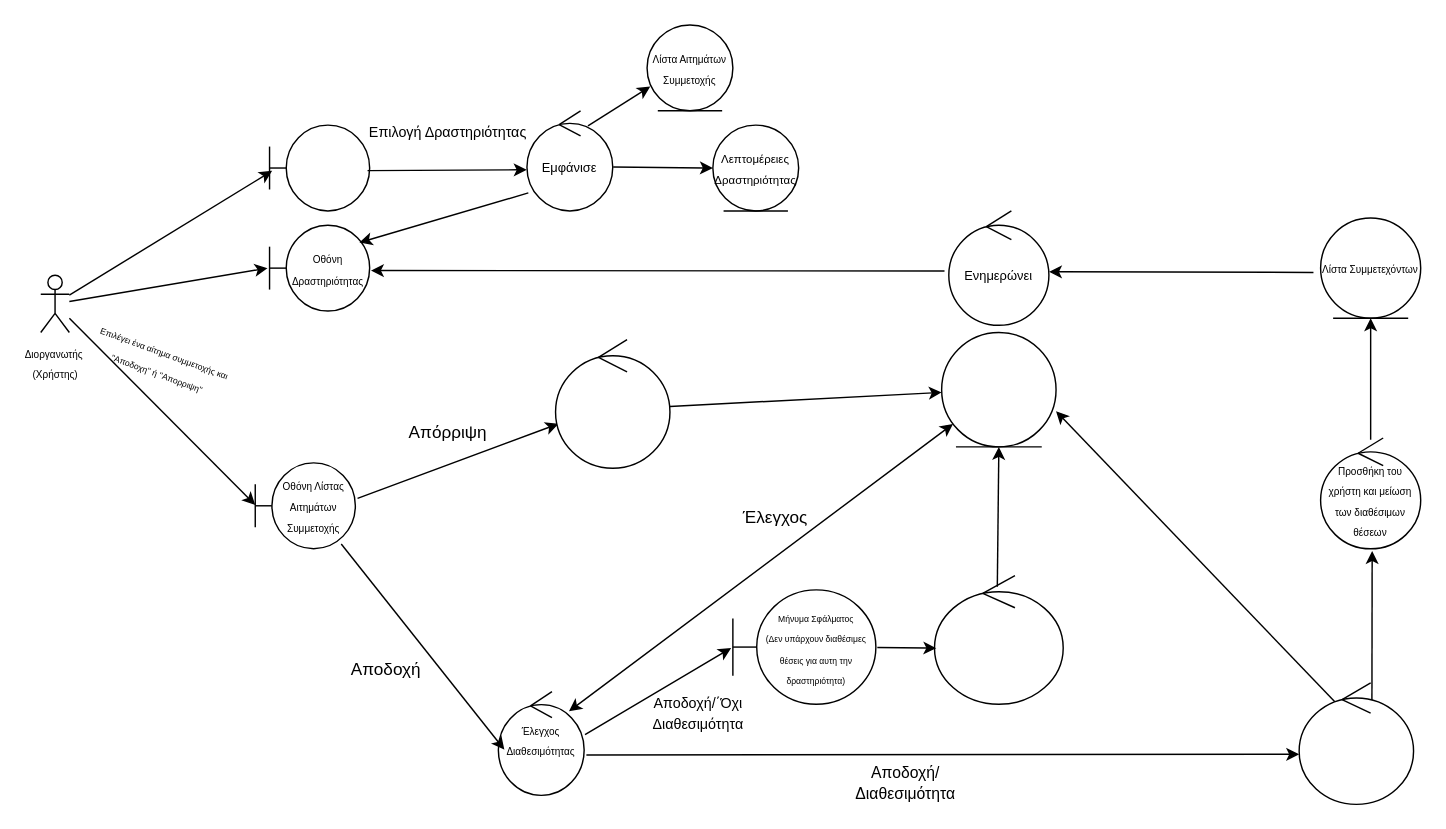
Some shapes in this 1446 by 829 pixel diagram are drawn without their labels. The box of each missing label's shape, as (x1, y1, x2, y2) in pixels:
Βάση Δεδομένων: (940, 331, 1056, 447)
Ενημερώνει την κατάσταση αιτήματος σε "Απορρίφθηκε": (554, 338, 670, 468)
Ενημερώνει την κατάσταση αιτήματος σε "Εγκεκριμένο": (1298, 681, 1414, 804)
Ενημερώνει την κατάσταση αιτήματος σε "σε Εκκρεμότητα": (933, 574, 1063, 704)
Κεντρικό Μενού: (268, 124, 370, 211)
